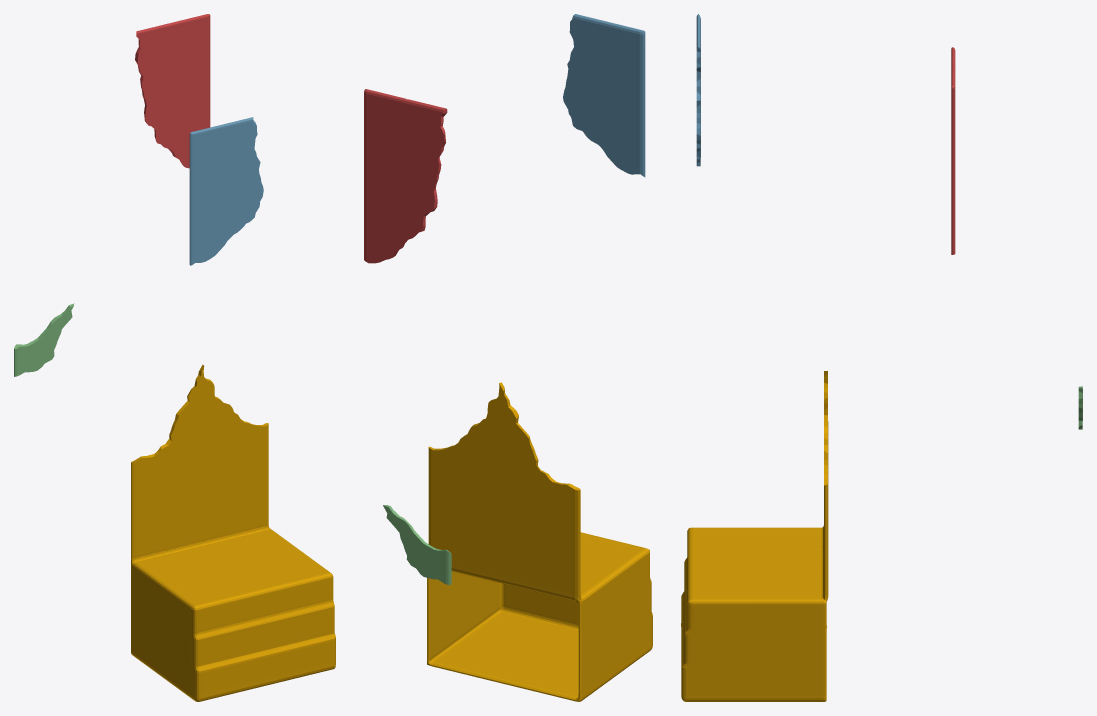
Rendered from mode_5_4pcs_transformed.glb.
3 views of the same model, side by side, from view 1: azimuth 30°, elevation 25°; view 2: azimuth 150°, elevation 25°; view 3: azimuth 270°, elevation 25° (orthographic). The views are drawn at different scales.
Visible parts, largest first — view 1: piece_0.obj, piece_1.obj, piece_2.obj, piece_3.obj; view 2: piece_0.obj, piece_1.obj, piece_2.obj, piece_3.obj; view 3: piece_0.obj, piece_1.obj, piece_2.obj.
Part boxes in pixels (x1=…): piece_0.obj: x1=131, y1=364, x2=335, y2=701; piece_1.obj: x1=135, y1=14, x2=210, y2=168; piece_2.obj: x1=189, y1=117, x2=263, y2=265; piece_3.obj: x1=14, y1=303, x2=74, y2=376; piece_0.obj: x1=427, y1=382, x2=652, y2=701; piece_1.obj: x1=364, y1=89, x2=447, y2=263; piece_2.obj: x1=563, y1=14, x2=645, y2=177; piece_3.obj: x1=383, y1=505, x2=451, y2=584; piece_0.obj: x1=681, y1=371, x2=828, y2=701; piece_1.obj: x1=951, y1=47, x2=955, y2=254; piece_2.obj: x1=696, y1=14, x2=700, y2=166.
Size of the model in its own units: 0.4162 by 1.6 by 0.9466.
